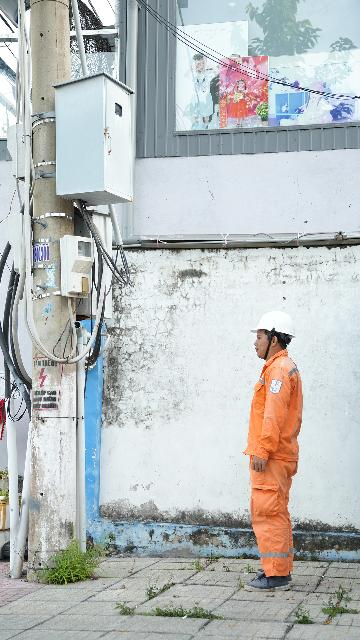helmet: (247, 307, 304, 344)
shoes: (238, 579, 297, 595), (248, 565, 302, 581)
